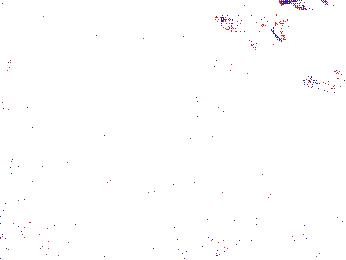X-ray fish: (181, 98, 250, 129)
redtail glassfish: (213, 12, 290, 49), (302, 65, 344, 97)
